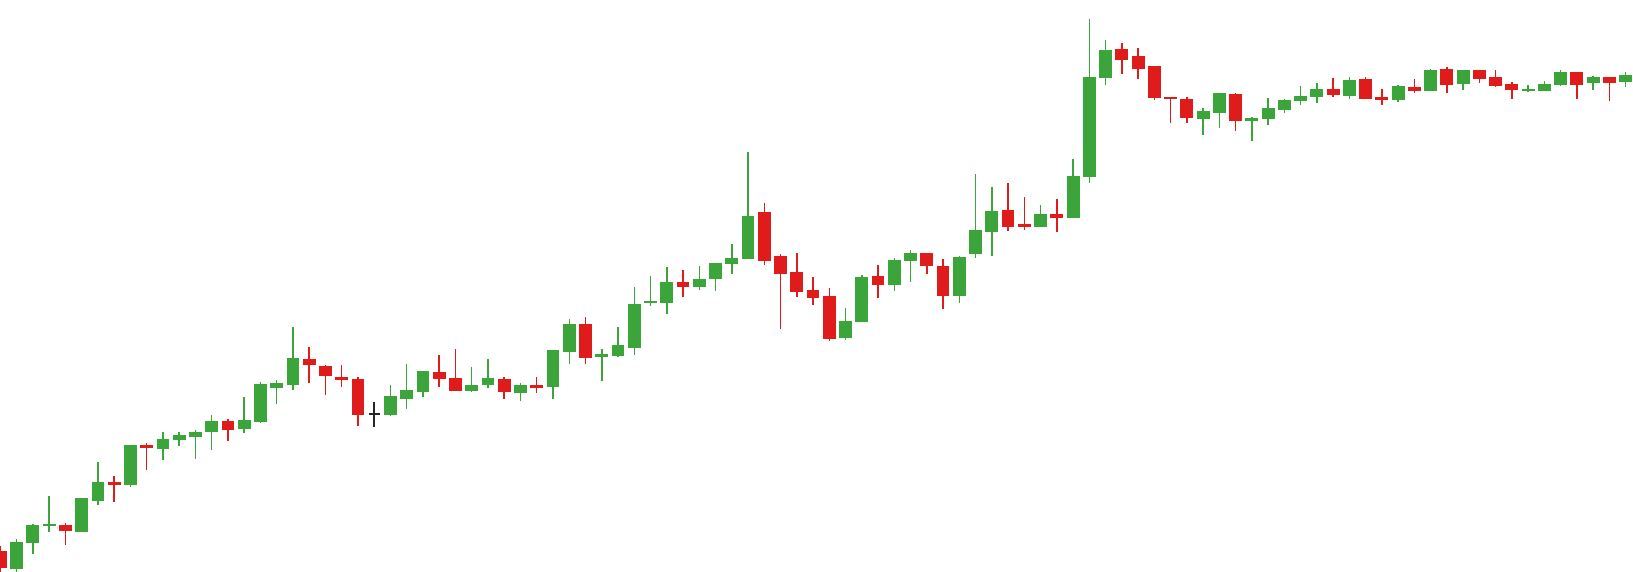buy: (266, 360, 402, 428)
